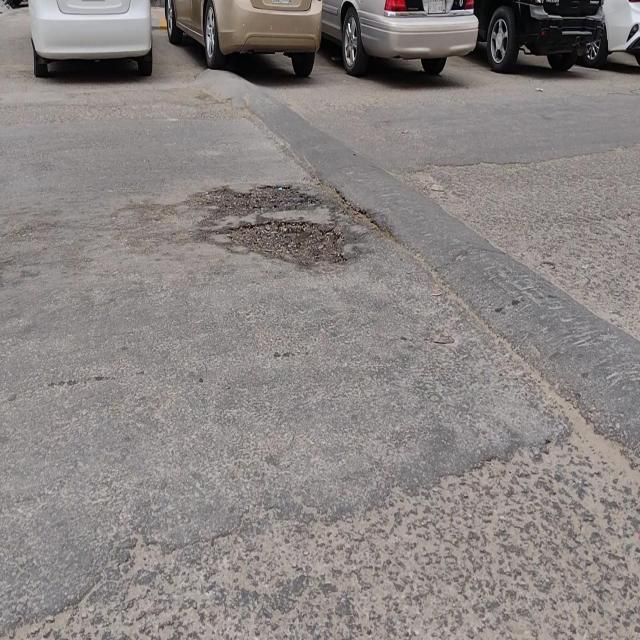Pothole: (214, 181, 341, 263)
